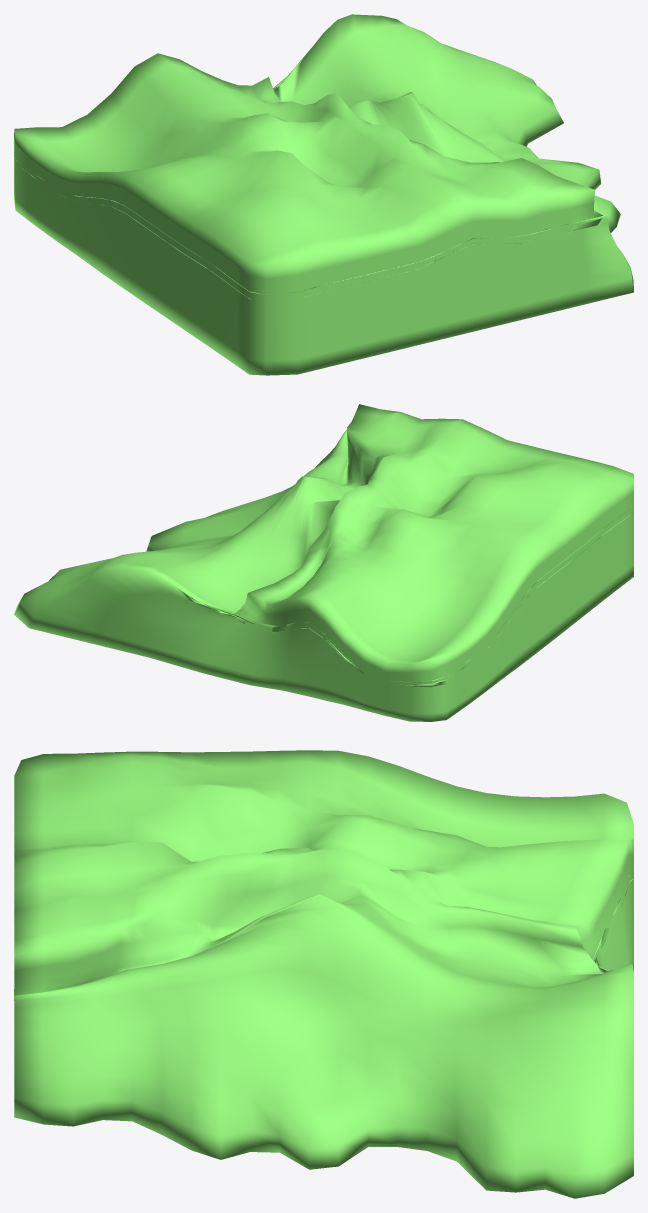
Rendered from menta_casi_vacio.fbx.
The picture shows the model from 3 angles, top to bottom: view 1: azimuth 30°, elevation 25°; view 2: azimuth 150°, elevation 25°; view 3: azimuth 270°, elevation 25°; orthographic projection. The views are drawn at different scales.
Visible parts, largest first — view 1: Menta_Casi_Vacio; view 2: Menta_Casi_Vacio; view 3: Menta_Casi_Vacio.
Boxes of the visible parts, x1,y1,x2,y2 form: Menta_Casi_Vacio: (14, 14, 633, 375); Menta_Casi_Vacio: (14, 404, 633, 721); Menta_Casi_Vacio: (14, 750, 633, 1198).
Size of the model in its own units: 224 by 62.49 by 189.
